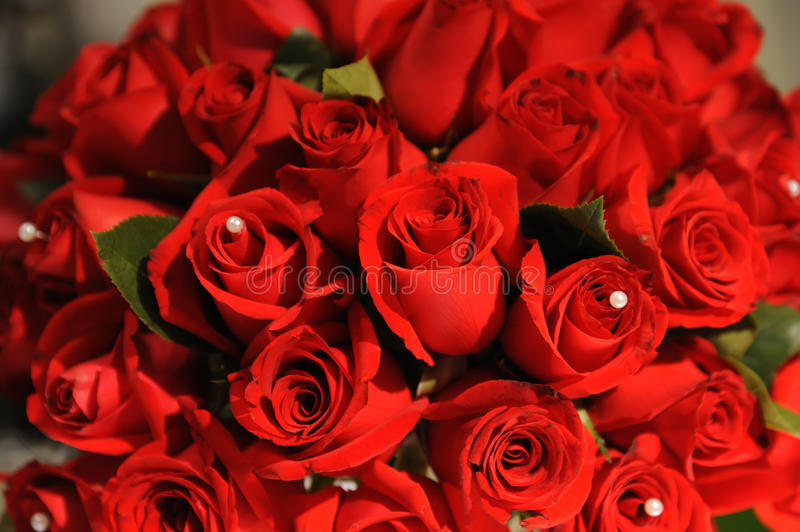RedRose: (369, 179, 552, 341), (589, 327, 755, 488), (211, 316, 422, 442), (629, 189, 772, 342), (484, 50, 631, 195), (182, 203, 325, 325), (29, 168, 174, 283), (396, 0, 514, 138), (51, 294, 171, 429), (541, 245, 645, 400), (284, 107, 409, 229), (51, 52, 184, 161), (458, 389, 579, 507), (188, 72, 295, 168), (116, 442, 221, 532), (613, 440, 710, 532), (333, 471, 446, 532), (22, 449, 88, 522)
